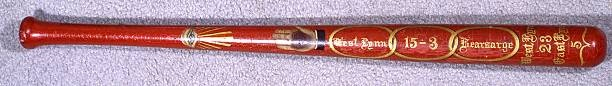bita: (15, 10, 603, 60)
